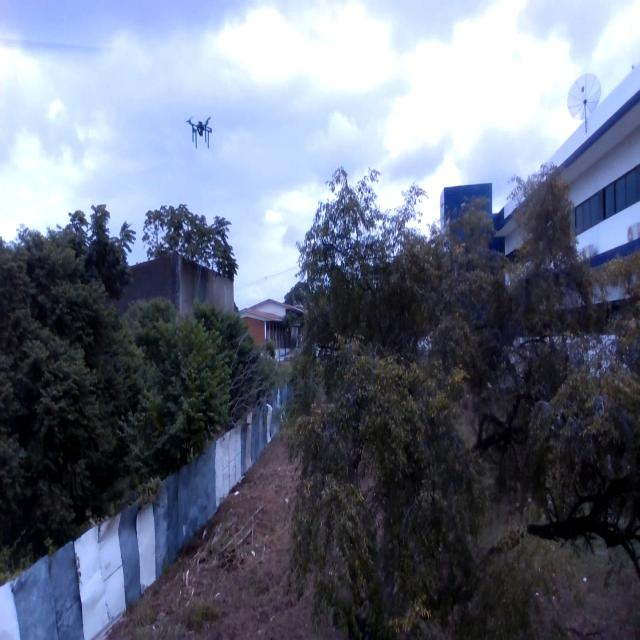-uav-: (182, 105, 222, 154)
